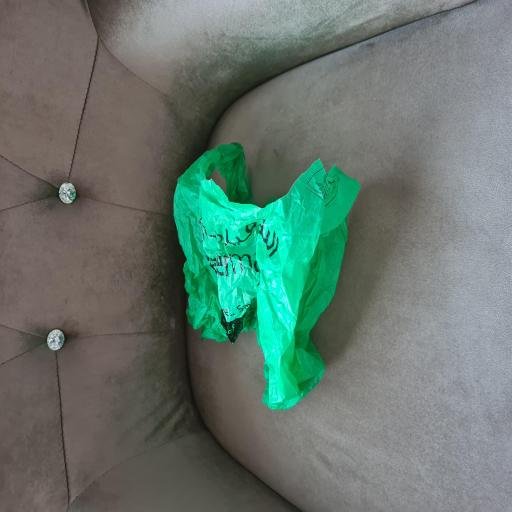plastic bag: (171, 140, 361, 413)
